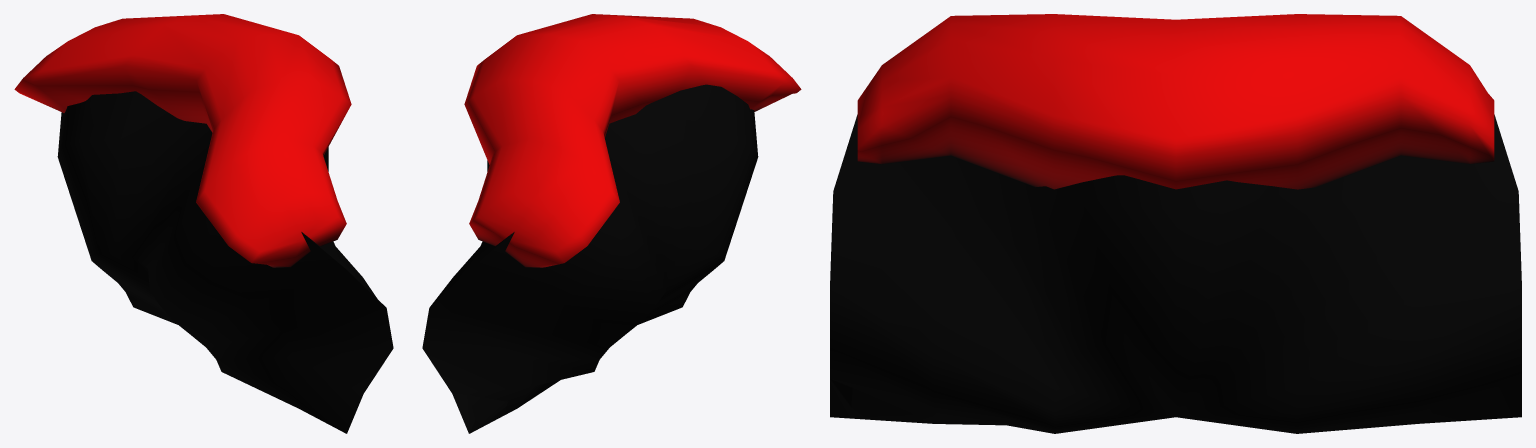
File: giant_clam_lo.glb
The picture shows the model from 3 angles, left to right: view 1: azimuth 30°, elevation 25°; view 2: azimuth 150°, elevation 25°; view 3: azimuth 270°, elevation 25°; orthographic projection. The views are drawn at different scales.
Parts seen in each view (by area): view 1: giant_clam_lo; view 2: giant_clam_lo; view 3: giant_clam_lo.
Part boxes in pixels (bbox=[...]): giant_clam_lo: bbox=[14, 14, 393, 433]; giant_clam_lo: bbox=[422, 14, 801, 433]; giant_clam_lo: bbox=[830, 14, 1521, 433].
Size of the model in its own units: 0.5157 by 0.6507 by 1.
